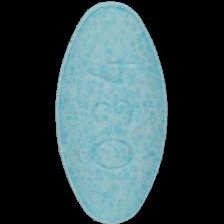49884-034: (0, 0, 224, 224)
